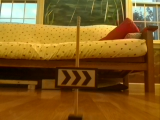right: (56, 68, 97, 89)
